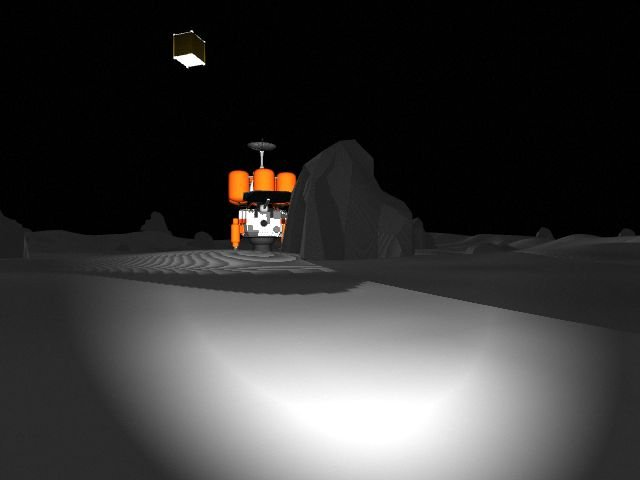cubesat: (162, 25, 211, 77)
